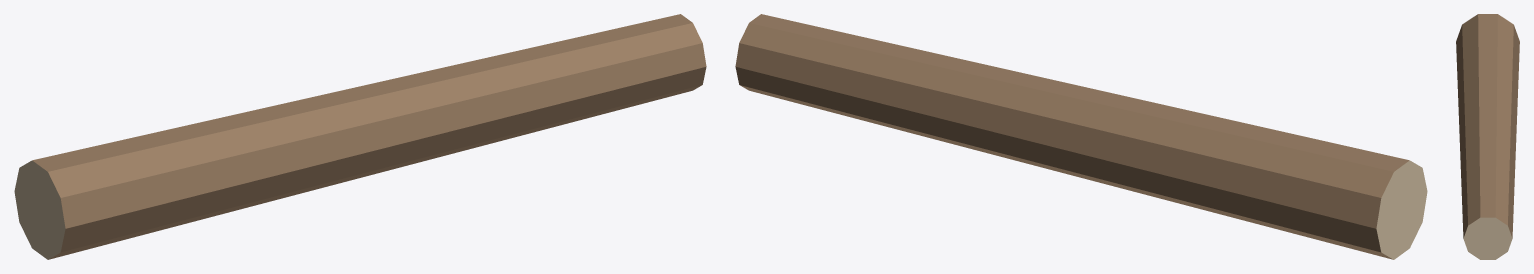
The model's file is log.glb.
The picture shows the model from 3 angles, left to right: view 1: azimuth 30°, elevation 25°; view 2: azimuth 150°, elevation 25°; view 3: azimuth 270°, elevation 25°; orthographic projection. The views are drawn at different scales.
Parts seen in each view (by area): view 1: Log; view 2: Log; view 3: Log.
Boxes of the visible parts, x1=… form: Log: x1=14, y1=14, x2=706, y2=259; Log: x1=735, y1=14, x2=1427, y2=259; Log: x1=1456, y1=14, x2=1519, y2=259.
Size of the model in its own units: 1.9 by 0.2473 by 0.26.
